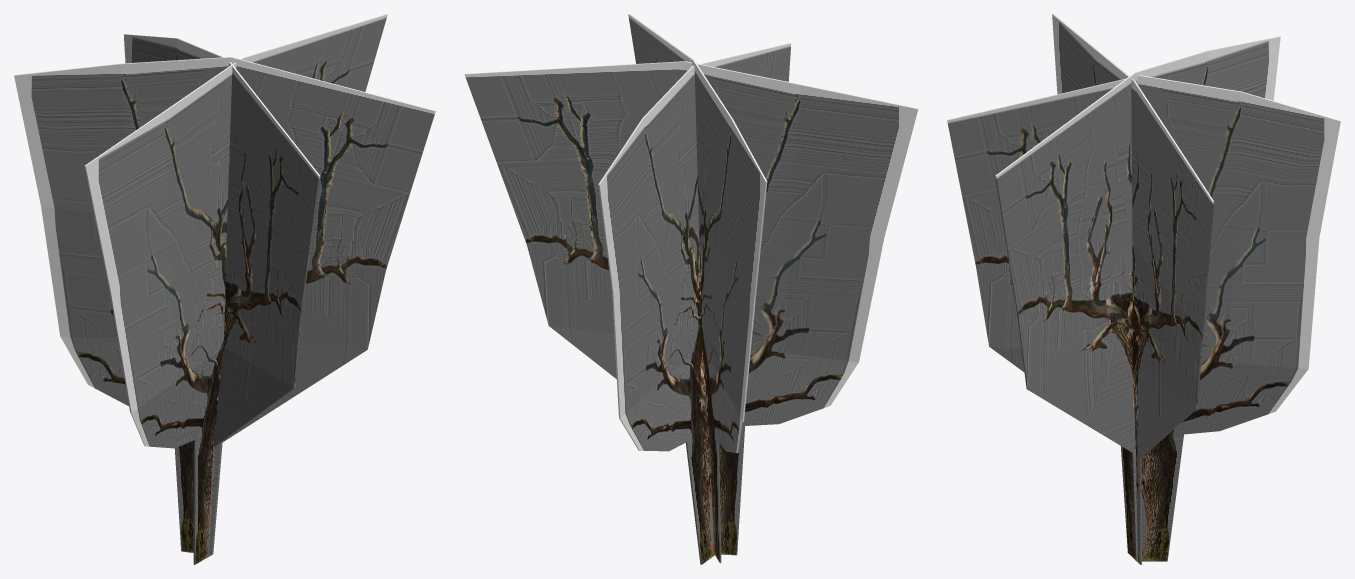
Rendered from ded tree 1.fbx.
3 views of the same model, side by side, from view 1: azimuth 30°, elevation 25°; view 2: azimuth 150°, elevation 25°; view 3: azimuth 270°, elevation 25° (orthographic). The views are drawn at different scales.
Parts seen in each view (by area): view 1: ded tree 1; view 2: ded tree 1; view 3: ded tree 1.
Part boxes in pixels (x1,y1,x2,y2): ded tree 1: [14, 14, 435, 564]; ded tree 1: [464, 14, 918, 564]; ded tree 1: [947, 14, 1340, 564].
Size of the model in its own units: 244 by 342 by 276.
